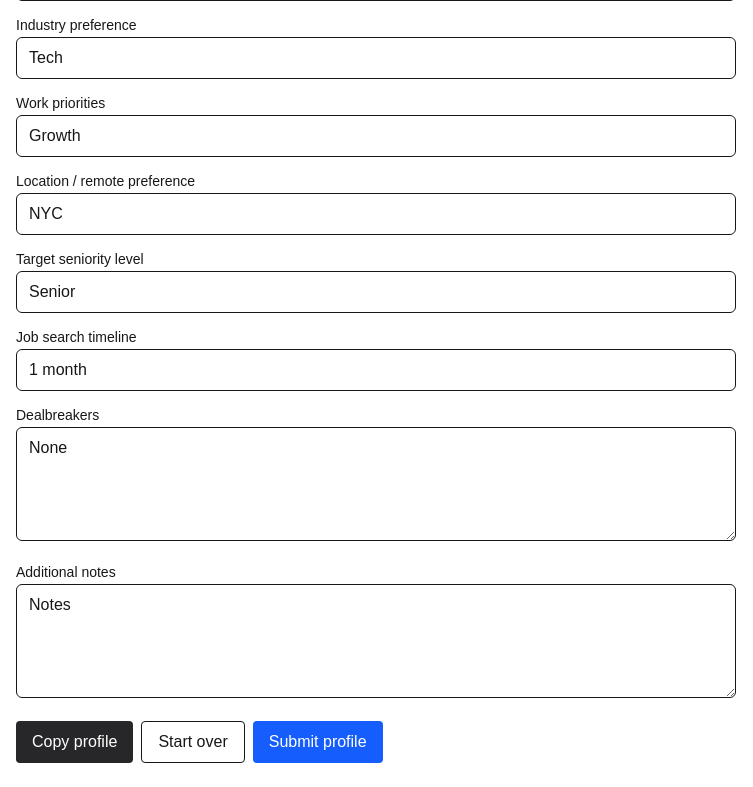
Test: Results Page › should save profile on submit when required fields are present
(page scrolled)
Click the button "Submit profile" at (318, 742), box [253,721,382,763]
(page scrolled)
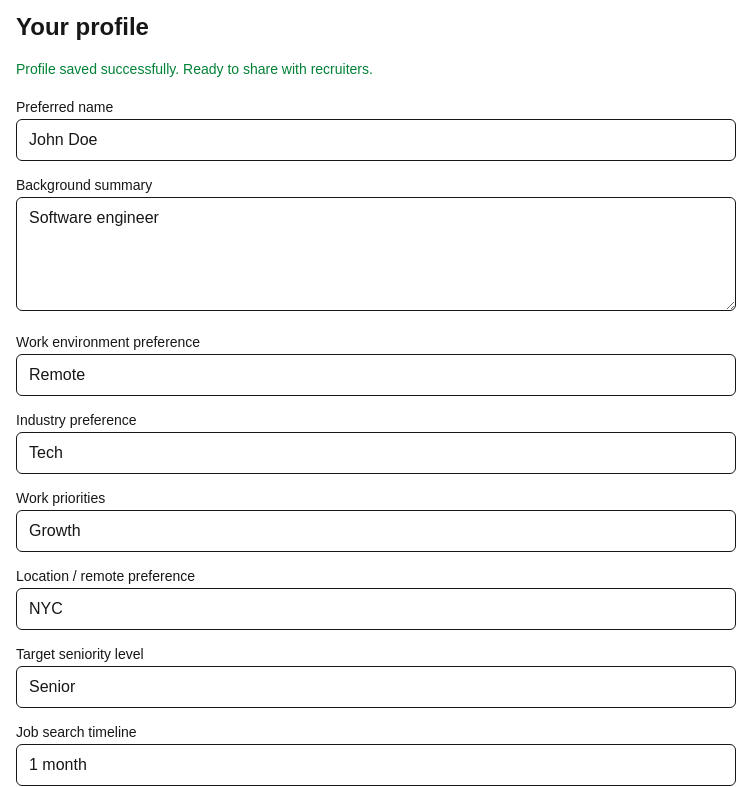
Expected: the text "Profile saved successfully. Ready to share with recruiters." is shown, [16,61,373,77]
